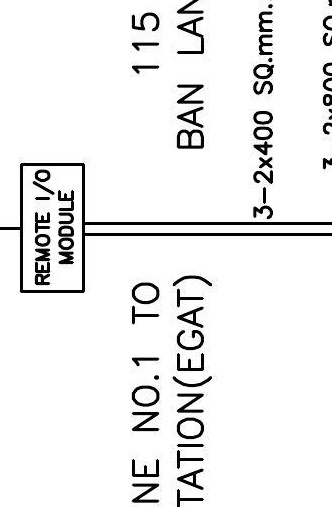remote_io_module: (20, 163, 86, 294)
